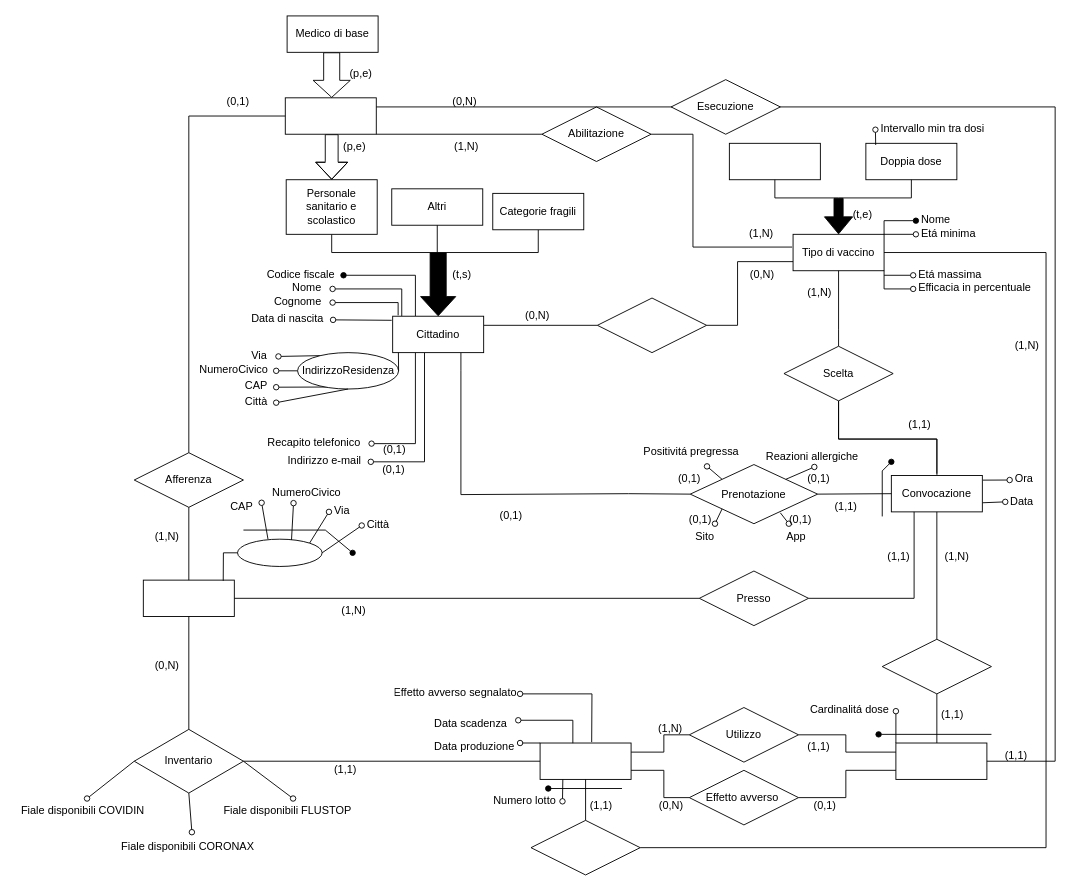
The diagram is 1072 pixels wide and 891 high, and some of its shapes have lost their labels. The centre of each missing label's shape, as x and y in pixels:
Accesso: (x=652, y=325)
Appartenenza: (x=585, y=847)
Centro vaccinale: (x=188, y=598)
Generazione: (x=936, y=666)
Indirizzo: (x=279, y=552)
Lotto: (x=585, y=760)
Medico: (x=330, y=115)
Monodose: (x=774, y=161)
Somministrazione: (x=941, y=760)
